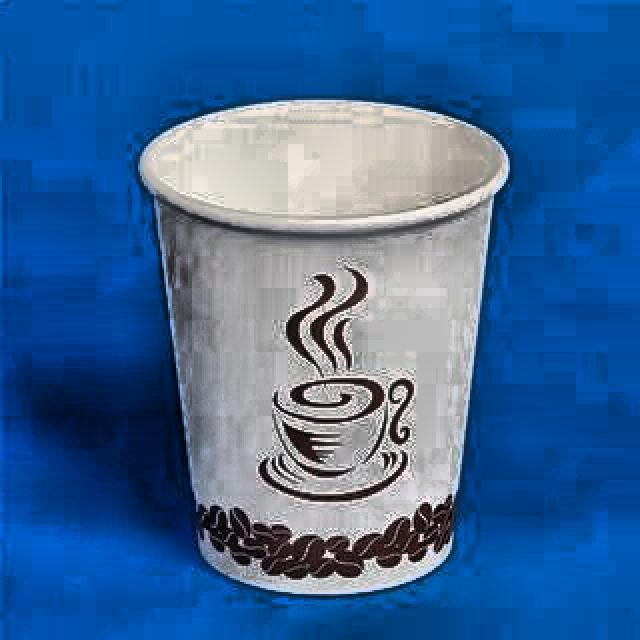Cup: (130, 84, 533, 598)
